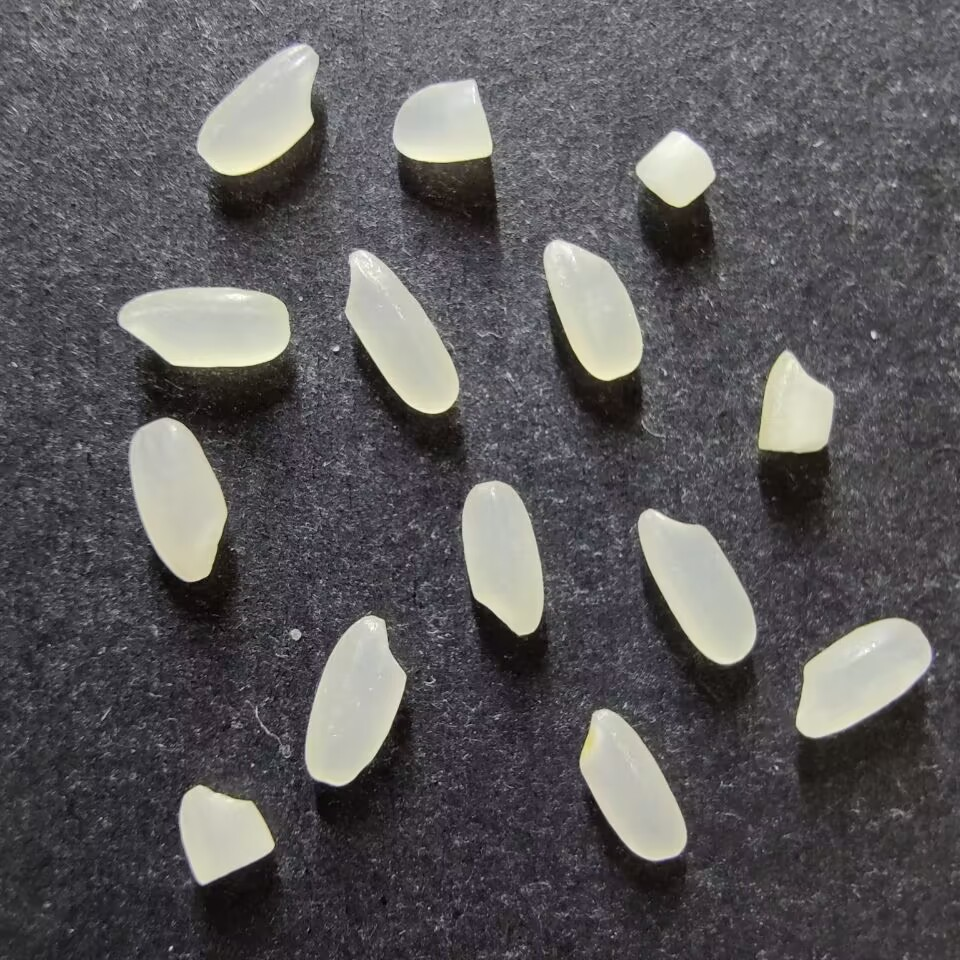broken: (177, 784, 275, 887), (392, 79, 492, 163), (757, 349, 834, 453), (634, 129, 716, 209)
rice: (342, 249, 459, 414), (636, 508, 757, 665), (303, 614, 407, 788), (577, 708, 687, 862), (794, 617, 932, 739), (128, 417, 228, 582), (195, 44, 319, 176), (542, 238, 643, 381), (116, 286, 290, 368), (460, 480, 544, 636)
